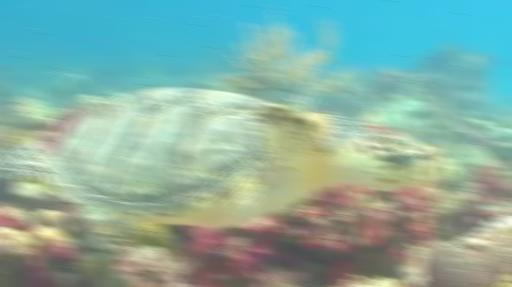Fish: (0, 87, 429, 226)
